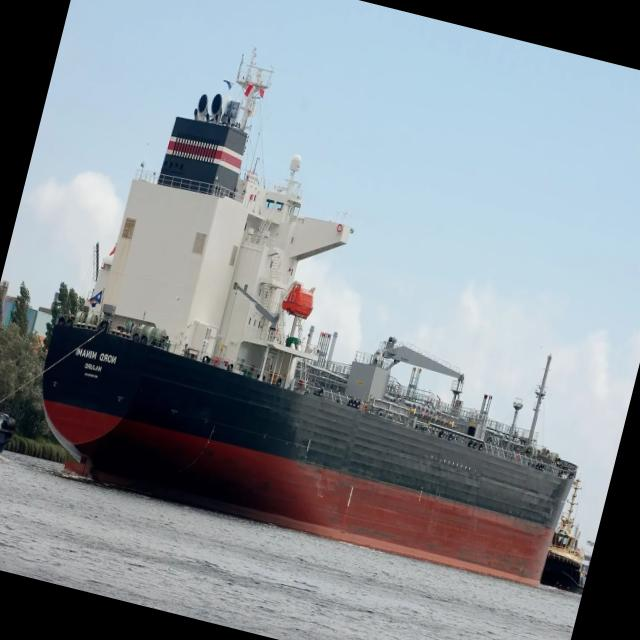Tanker: (43, 51, 577, 582)
Tug: (542, 481, 584, 592)
